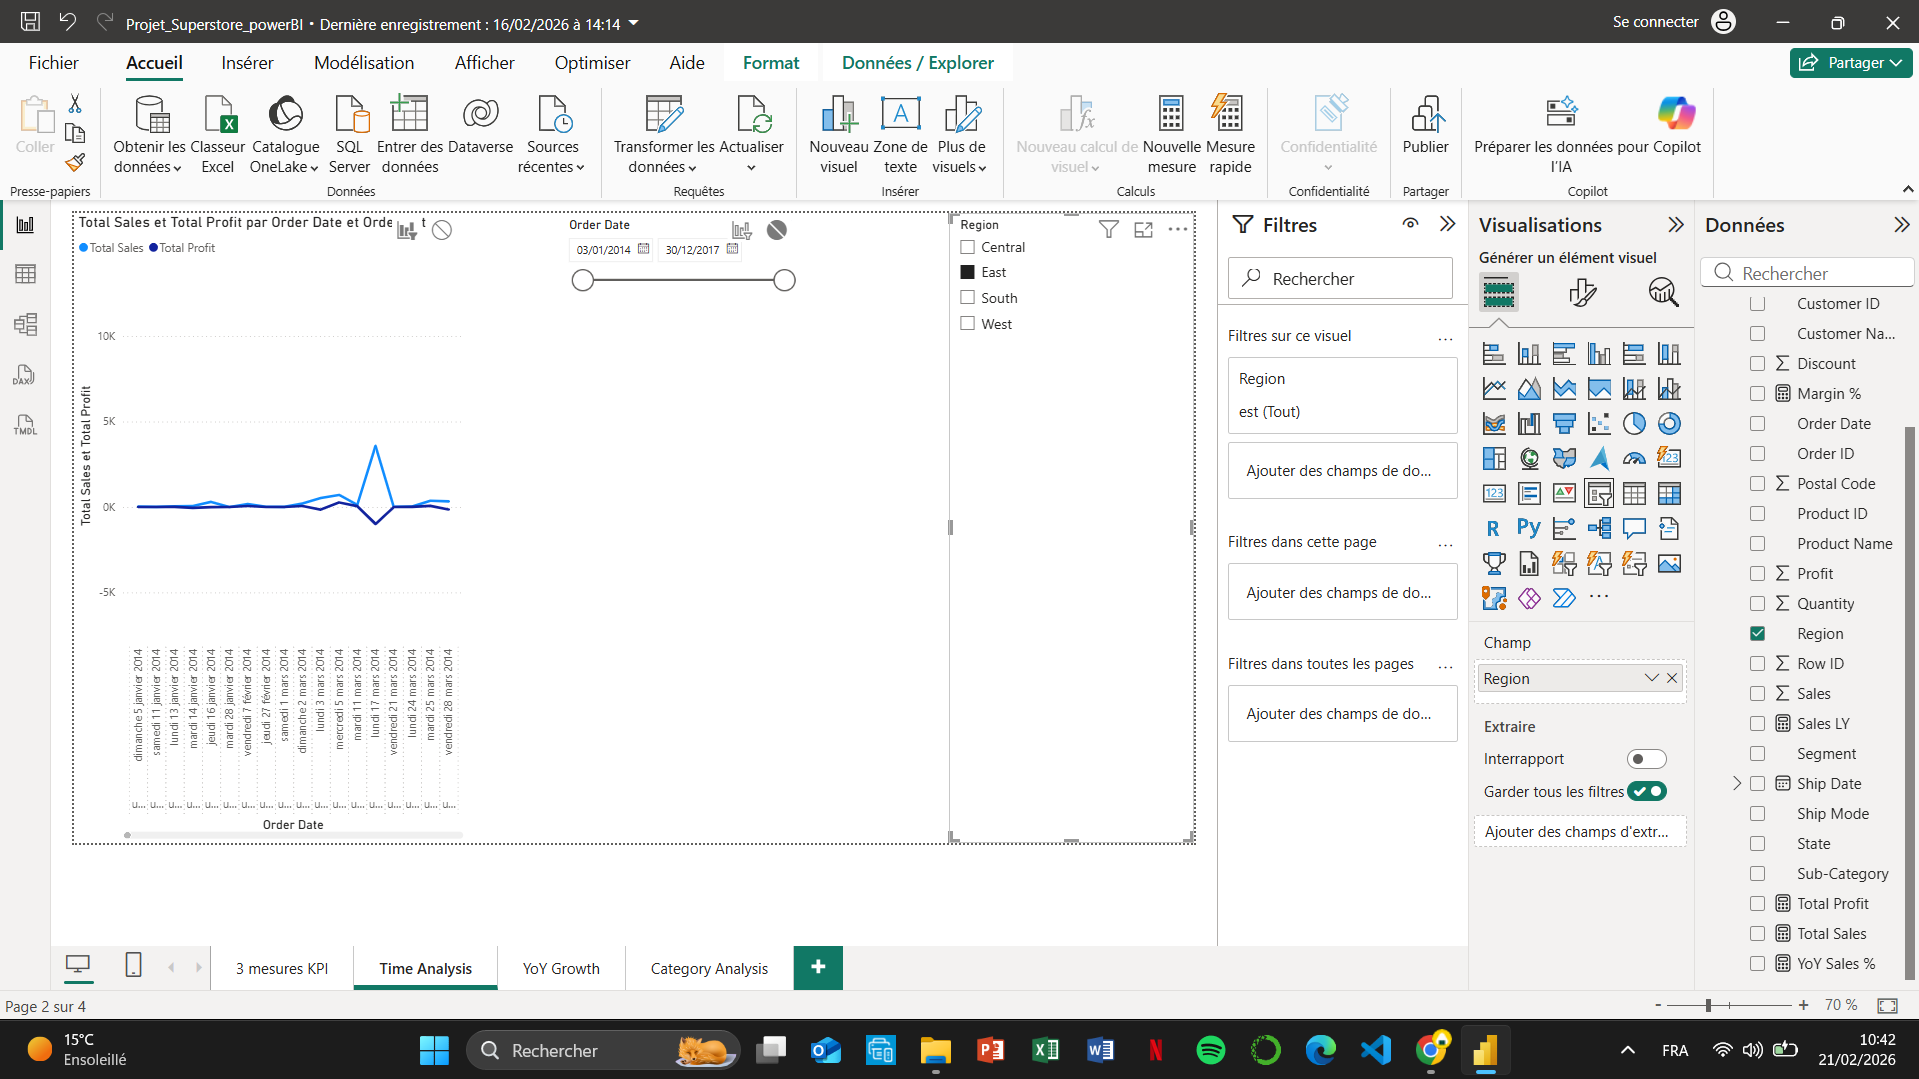

Layout of this report page (visuals, bound fields, positions):
{"tool":"powerbi","page":{"name":"Time Analysis","canvas":[1280,720],"ordinal":1},"visuals":[{"type":"slicer","fields":{"Values":["Fact_Sales.Order Date"]},"box":[552.2,0,280,720],"z":0},{"type":"slicer","fields":{"Values":["Fact_Sales.Region"]},"box":[1000,0,280,720],"z":1000},{"type":"lineChart","fields":{"Category":["Fact_Sales.Order Date.Variation.Hiérarchie de dates.Mois","Fact_Sales.Order Date.Variation.Hiérarchie de dates.Année"],"Y":["Fact_Sales.Total Sales","Fact_Sales.Total Profit"]},"box":[0,0,450,720],"z":2000}]}

Visuals, with their boxes on the page's 1280x720 design canvas (x1, y1, x2, y2). These are canvas units, not pixel positions in the 1919x1079 screenshot, which may show the page scaled, cropped or inside an application window:
slicer - Fact_Sales.Order Date: (x1=552, y1=0, x2=832, y2=720)
slicer - Fact_Sales.Region: (x1=1000, y1=0, x2=1280, y2=720)
lineChart - Fact_Sales.Order Date.Variation.Hiérarchie de dates.Mois x Fact_Sales.Order Date.Variation.Hiérarchie de dates.Année: (x1=0, y1=0, x2=450, y2=720)
